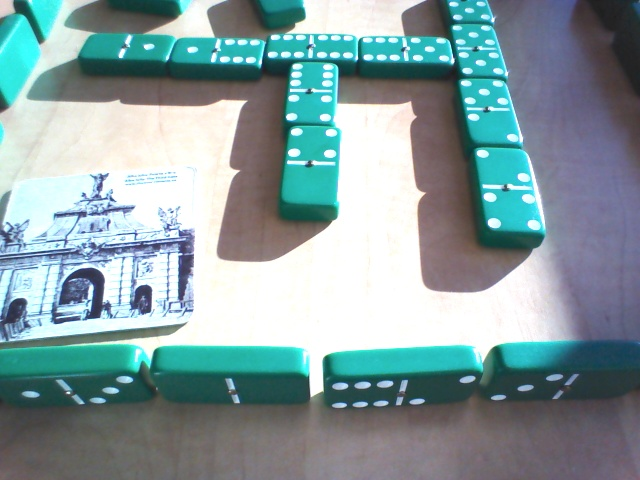B: (461, 143, 554, 246), (274, 122, 343, 215), (451, 73, 526, 153), (169, 32, 266, 81), (264, 29, 360, 75), (279, 62, 345, 128), (361, 37, 455, 79), (76, 30, 169, 72), (446, 22, 510, 81), (441, 1, 500, 27)
C: (1, 15, 43, 111), (14, 1, 64, 41)
D: (608, 11, 640, 89)
E: (151, 341, 318, 420), (321, 347, 484, 425), (487, 334, 640, 411), (1, 346, 154, 413)
